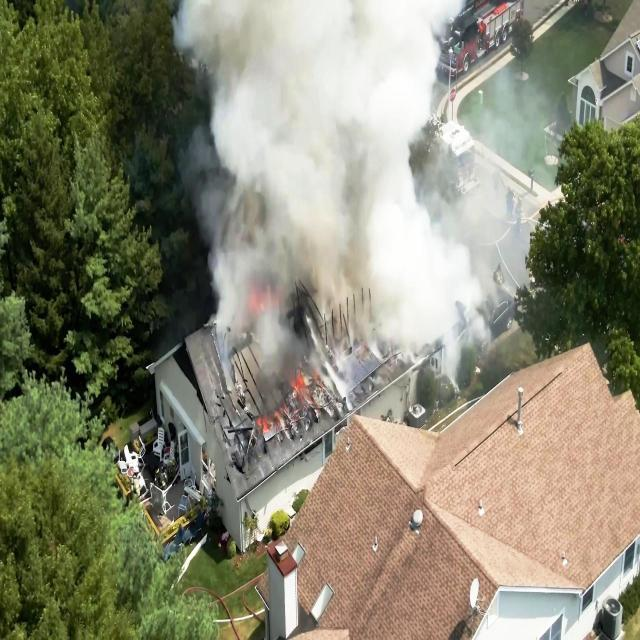Fire: (256, 364, 341, 446)
Smoke: (214, 18, 422, 199), (230, 170, 373, 328), (472, 80, 550, 282), (376, 205, 475, 358)
